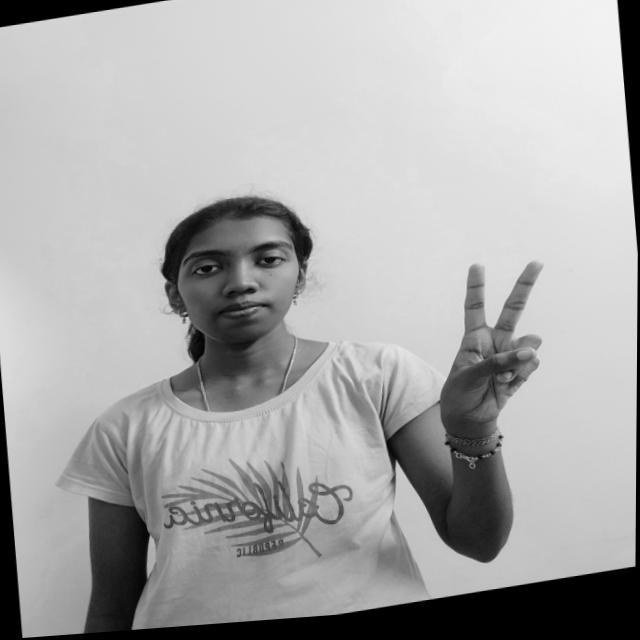Victory: (416, 248, 562, 451)
